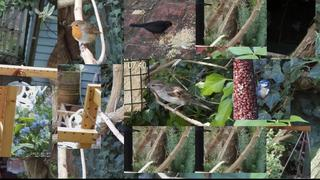blackbird: (129, 20, 176, 41)
blue tit: (253, 79, 270, 104)
robin: (68, 20, 104, 52)
sparrow: (144, 79, 214, 117)
